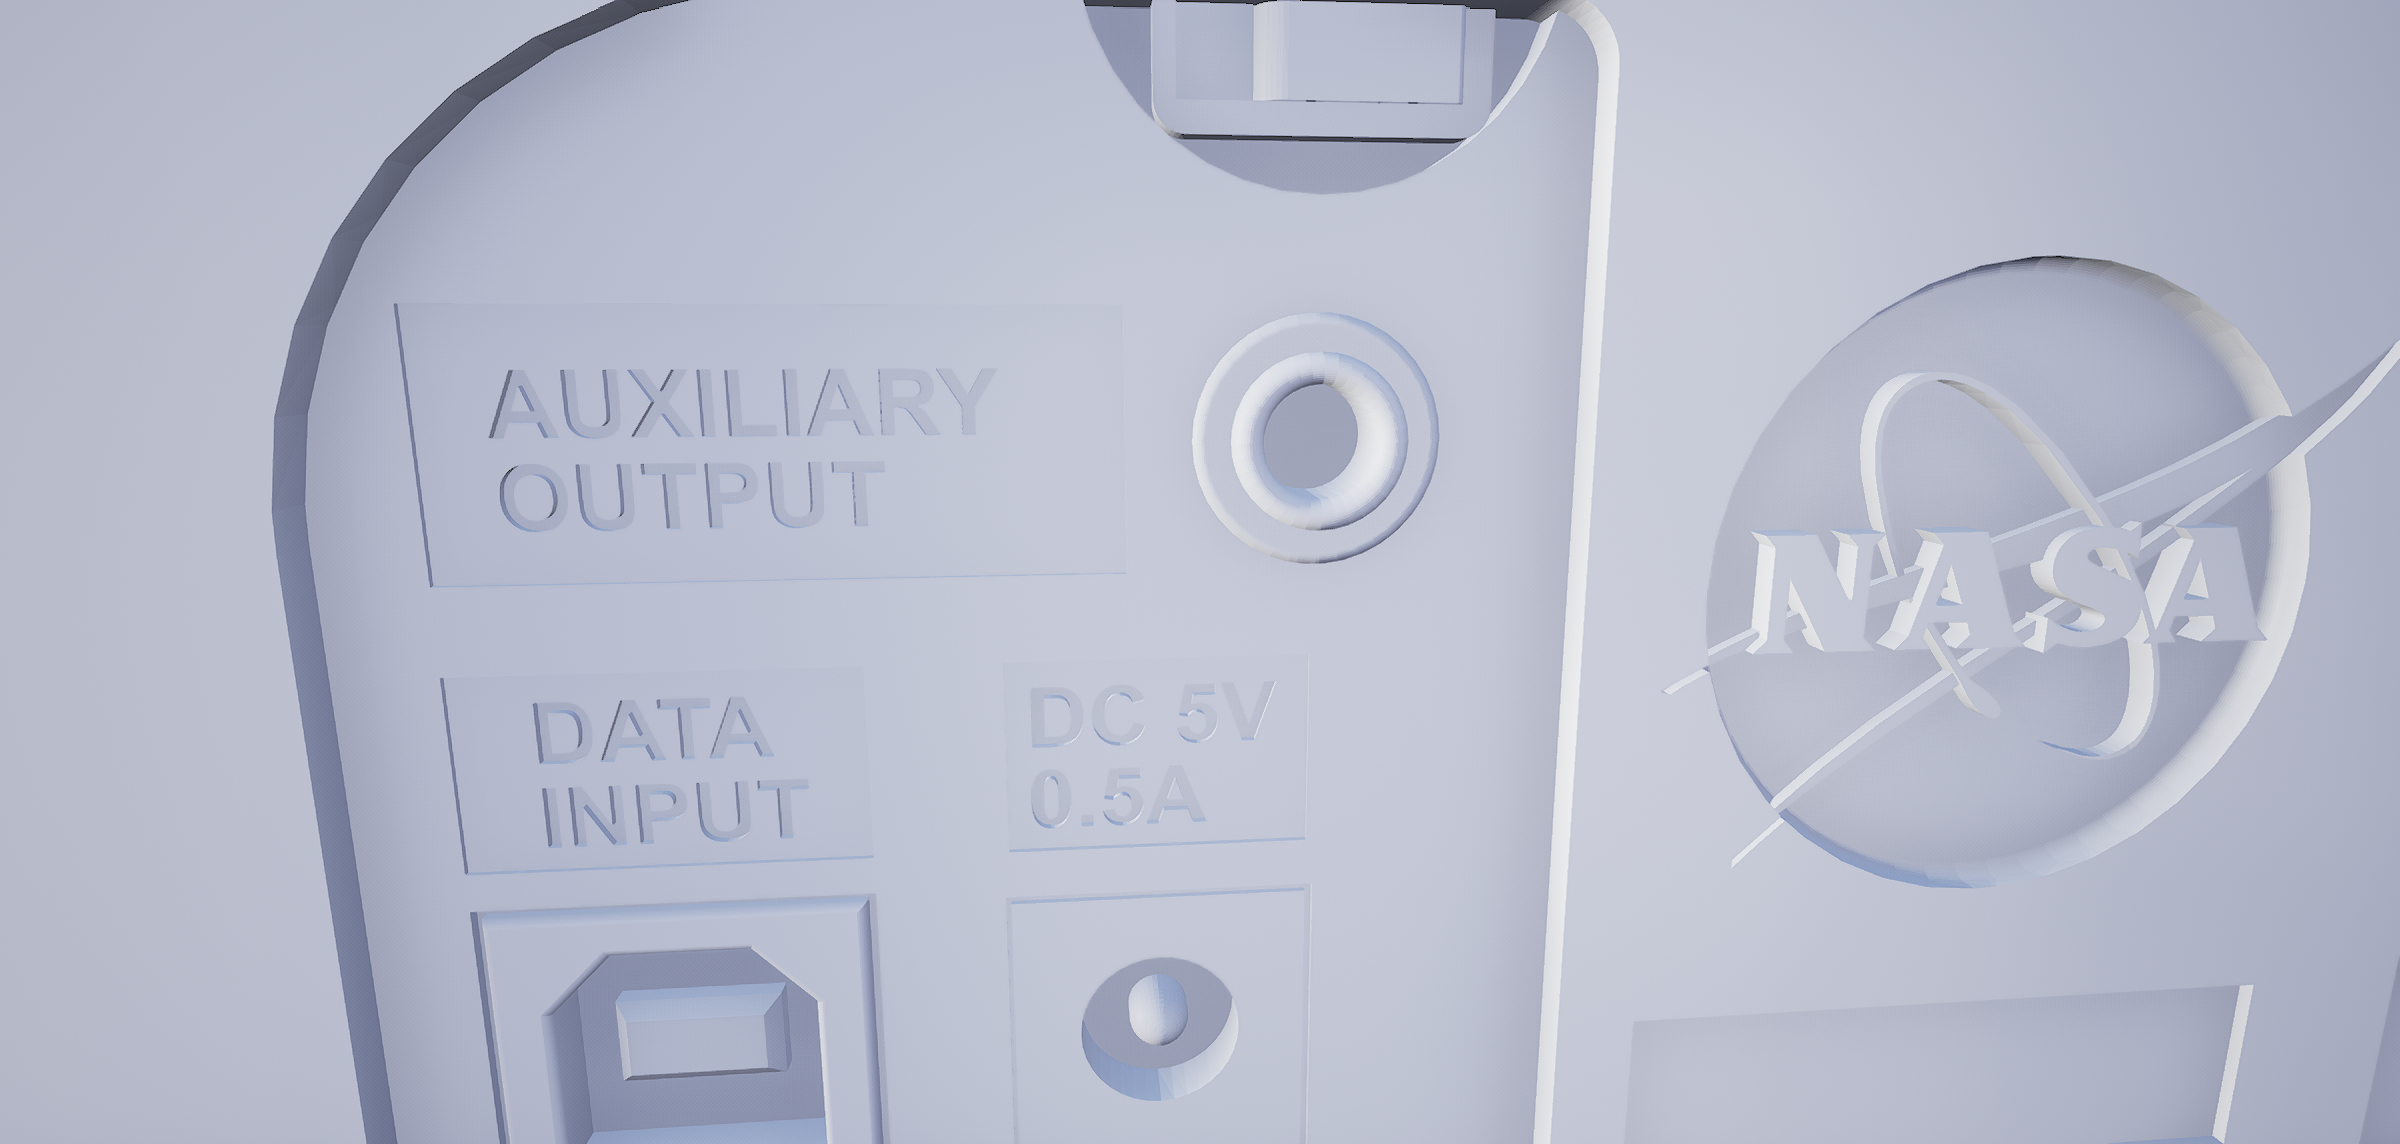aux: (1165, 297, 1454, 585)
dc: (1055, 939, 1254, 1110)
usb: (533, 946, 839, 1144)
